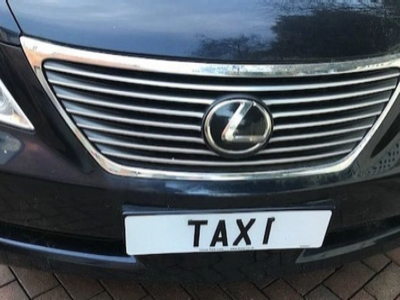licence: (120, 210, 325, 247)
